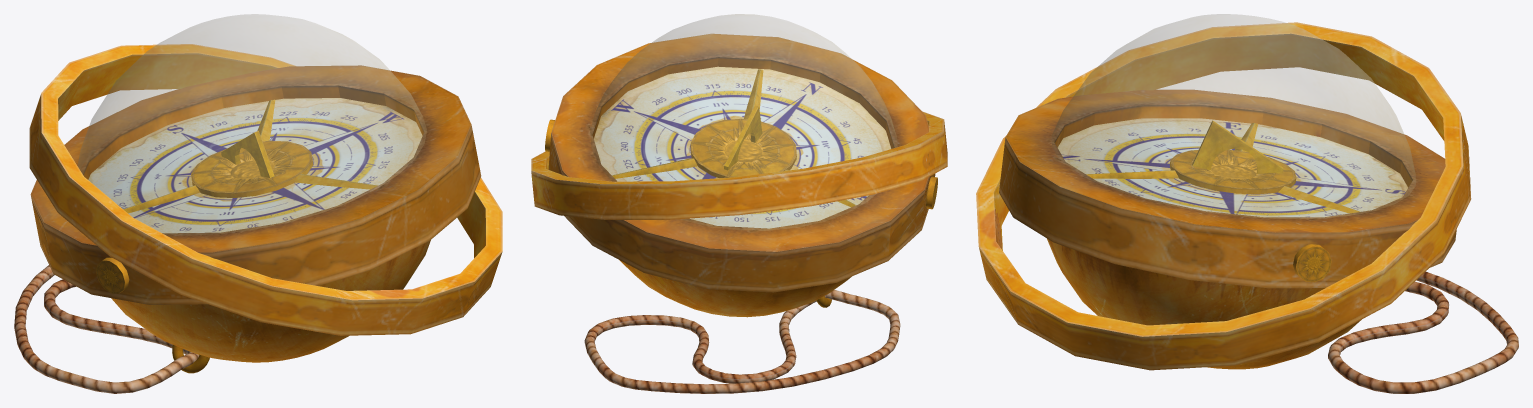
Rendered from compass.glb.
The picture shows the model from 3 angles, left to right: view 1: azimuth 30°, elevation 25°; view 2: azimuth 150°, elevation 25°; view 3: azimuth 270°, elevation 25°; orthographic projection. The views are drawn at different scales.
Parts seen in each view (by area): view 1: Compass_Haupt_0, Object001_Glas_0; view 2: Compass_Haupt_0, Object001_Glas_0; view 3: Compass_Haupt_0, Object001_Glas_0.
Part boxes in pixels (left/top/right/bottom): Compass_Haupt_0: left=14, top=44, right=502, bottom=393; Object001_Glas_0: left=78, top=14, right=426, bottom=235; Compass_Haupt_0: left=531, top=33, right=947, bottom=393; Object001_Glas_0: left=590, top=14, right=897, bottom=230; Compass_Haupt_0: left=976, top=22, right=1518, bottom=393; Object001_Glas_0: left=1052, top=14, right=1415, bottom=218.
Bounding box in the file's own units: 1.32 × 0.9411 × 1.44.
Materials: 2 (2 with a texture image).
